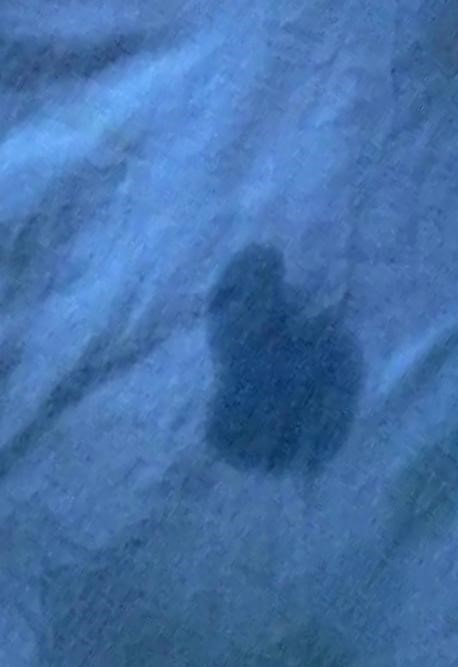stain: (192, 235, 378, 490)
